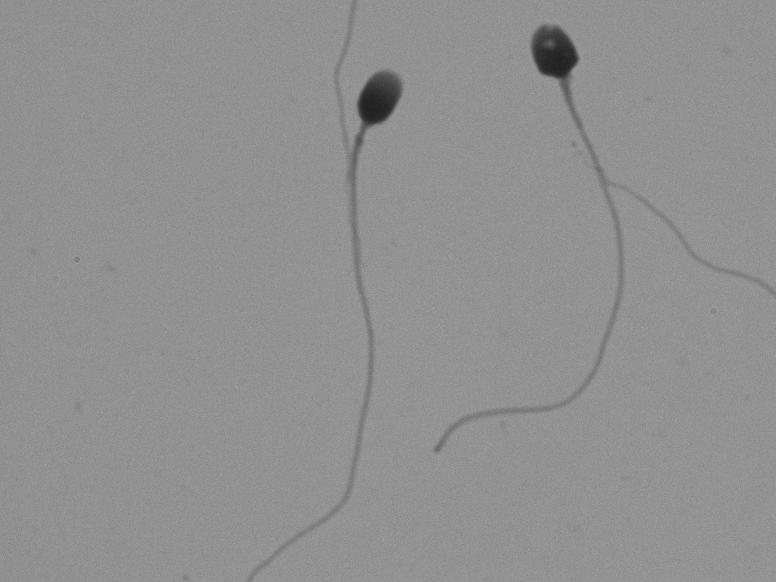Abnormal: (463, 13, 672, 443)
Normal: (266, 47, 425, 562)
